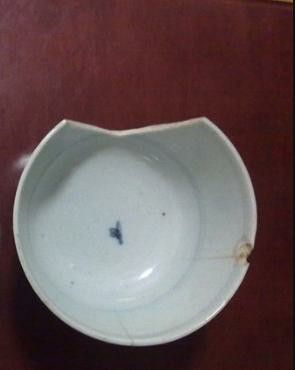ceramics: (7, 113, 261, 351)
